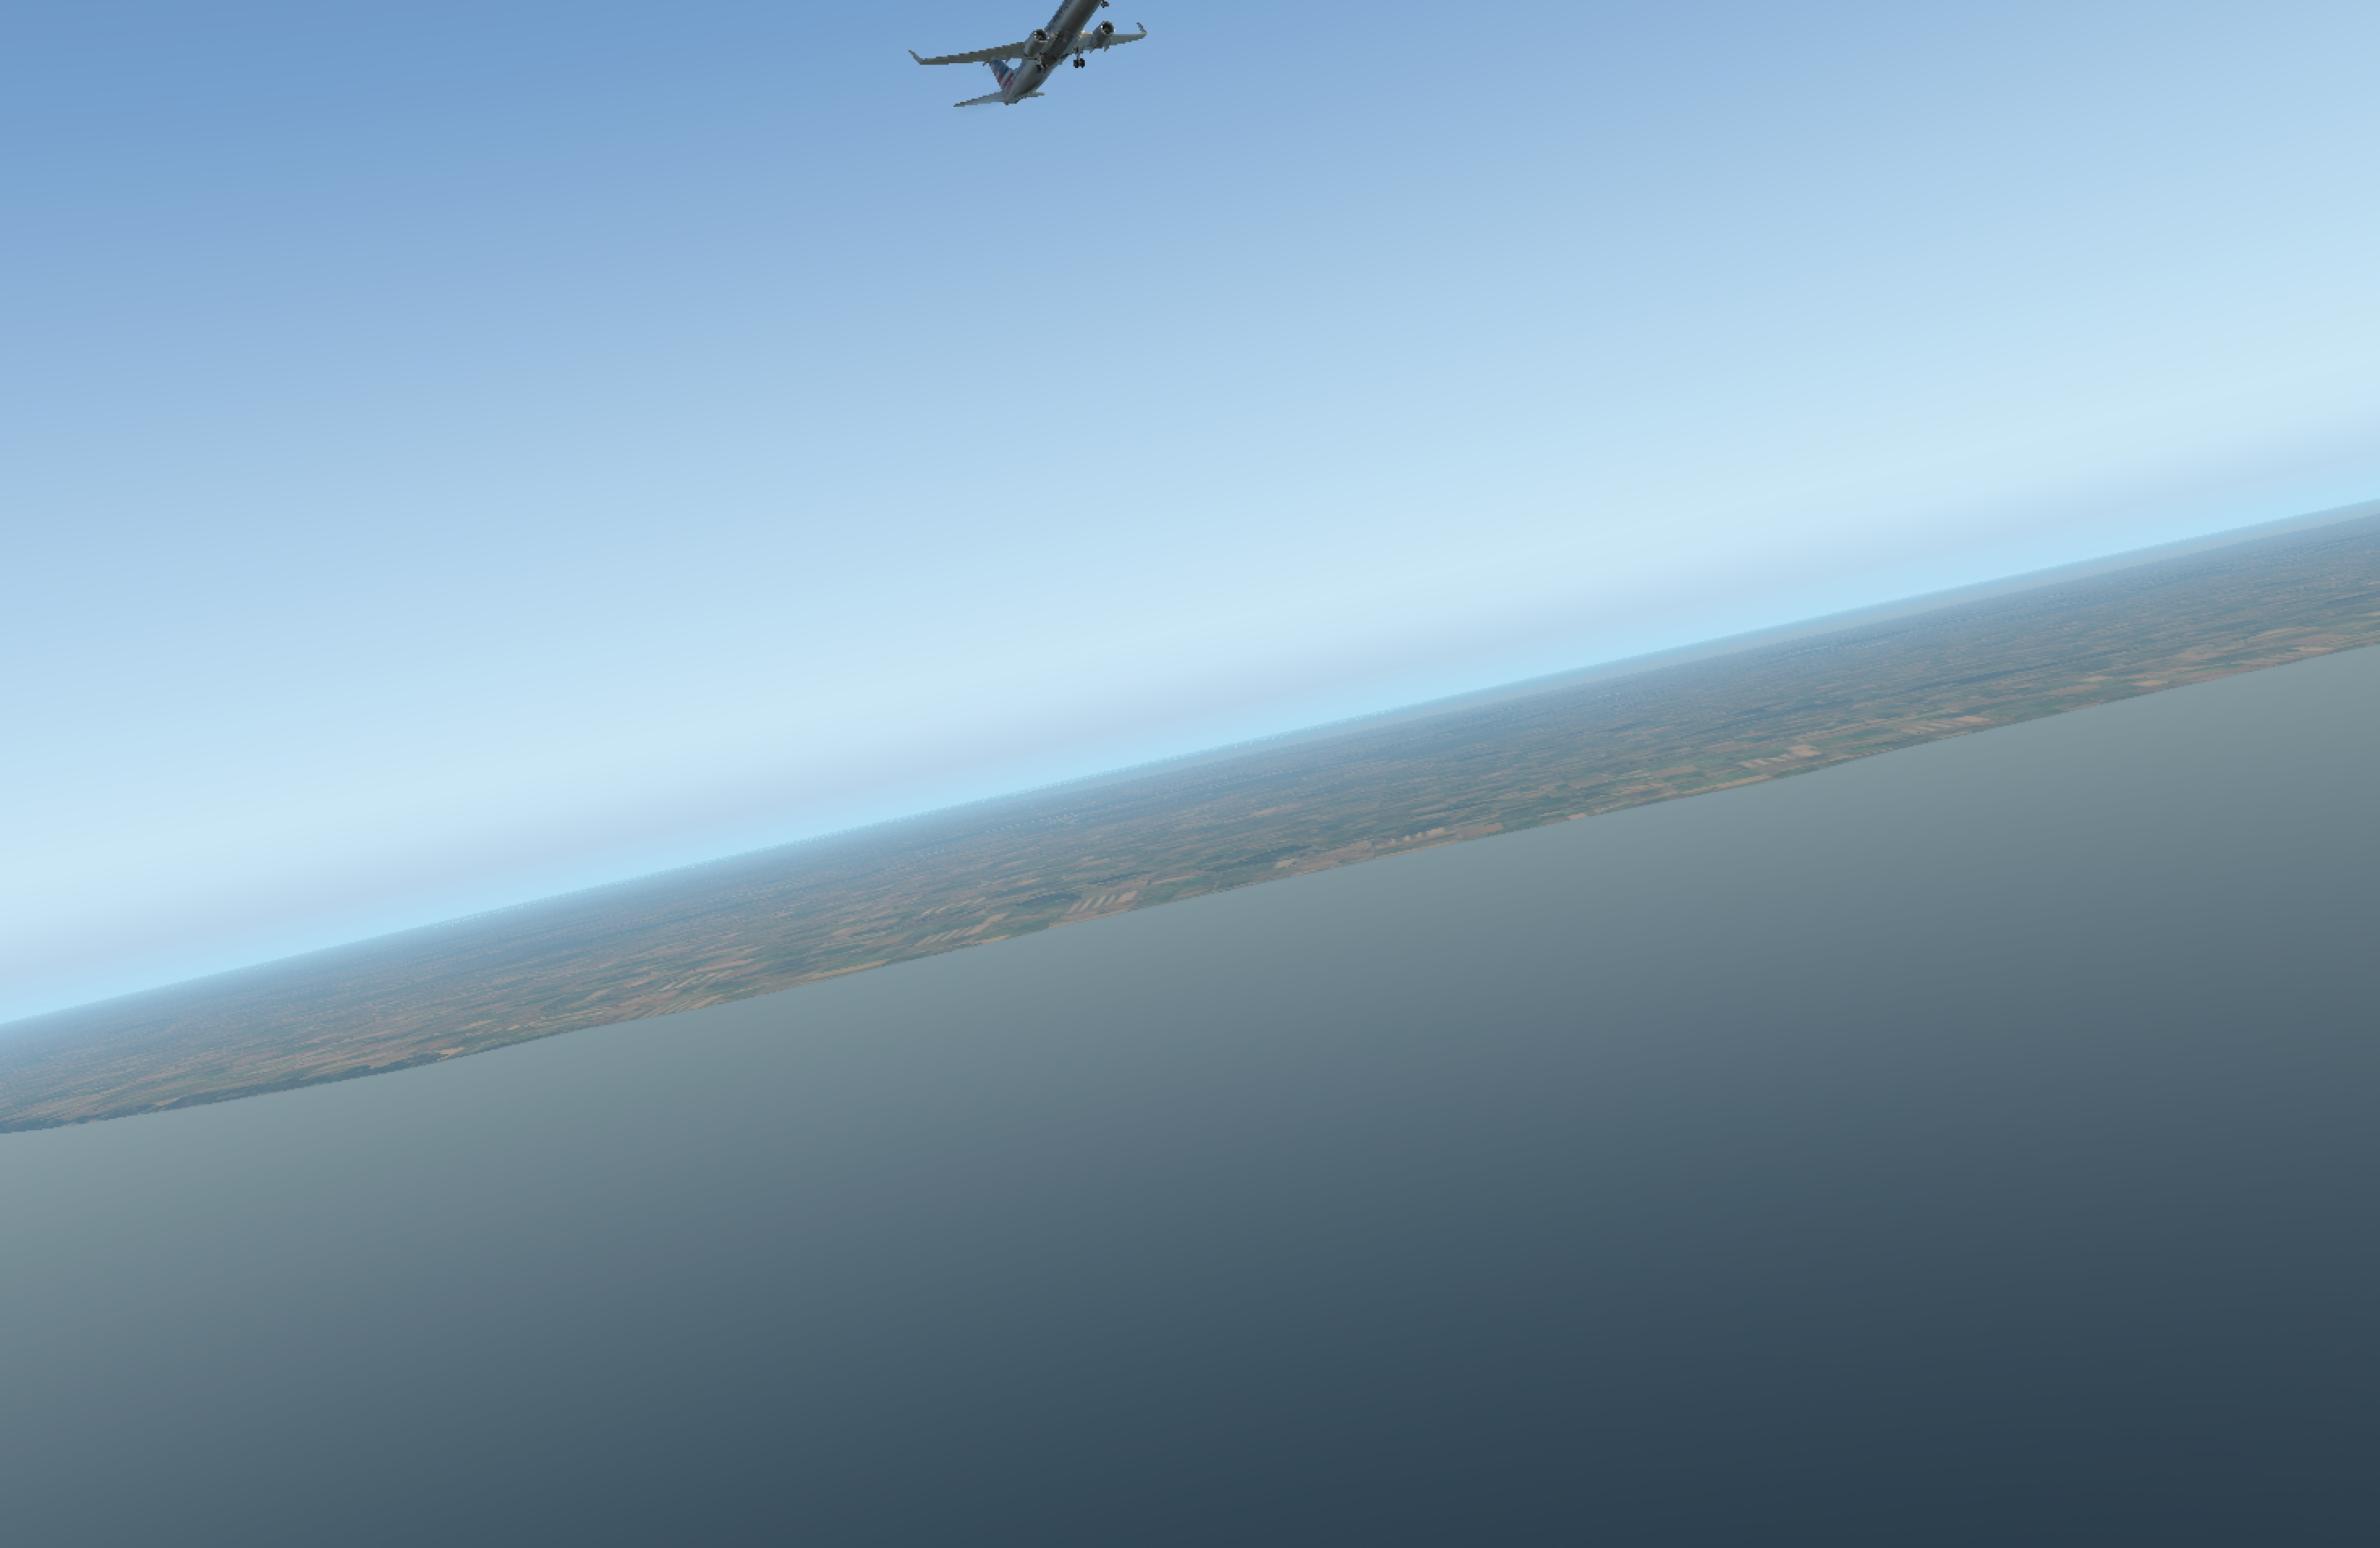aircraft: (918, 0, 1199, 95)
